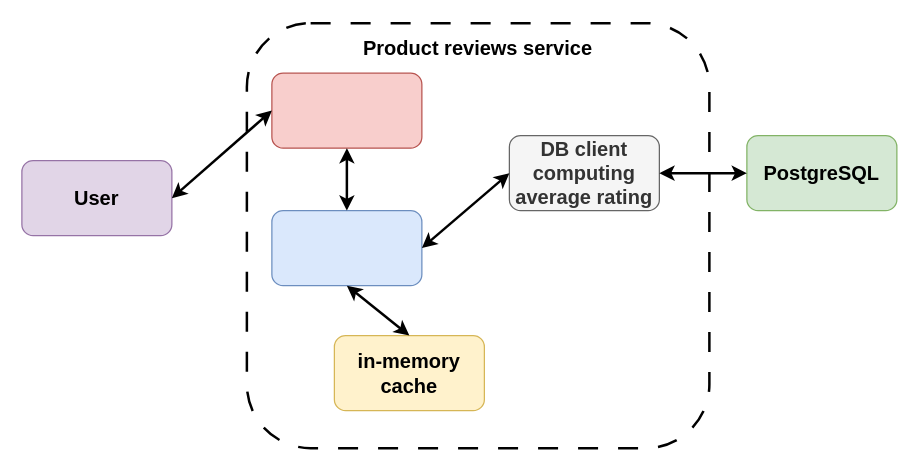
The diagram is 919 pixels wide and 470 high, and some of its shapes have lost their labels. The shapes that lost their labels are listed below. From the top down, each one's centre as x and y in pixels, then its label:
At [346,110]: "HTTP Reverse Proxy".
At [346,247]: "gRPC server".
